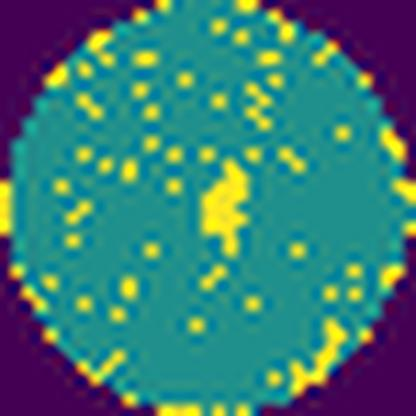Center: (202, 154, 252, 264)
